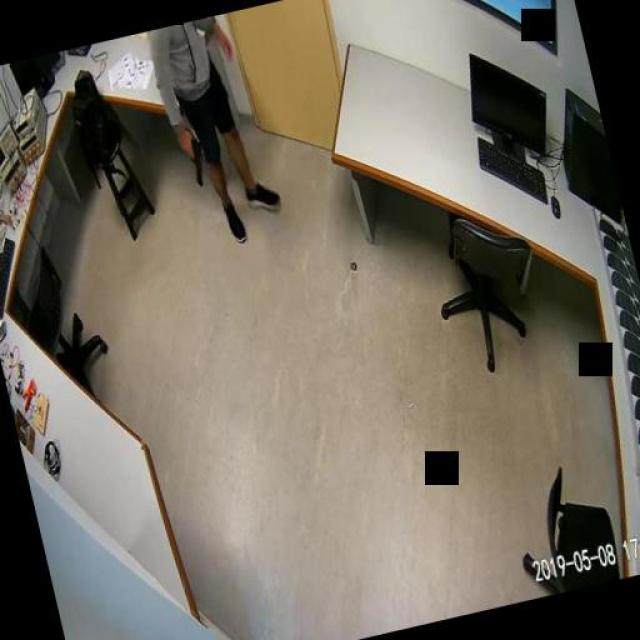gun: (180, 134, 206, 188)
